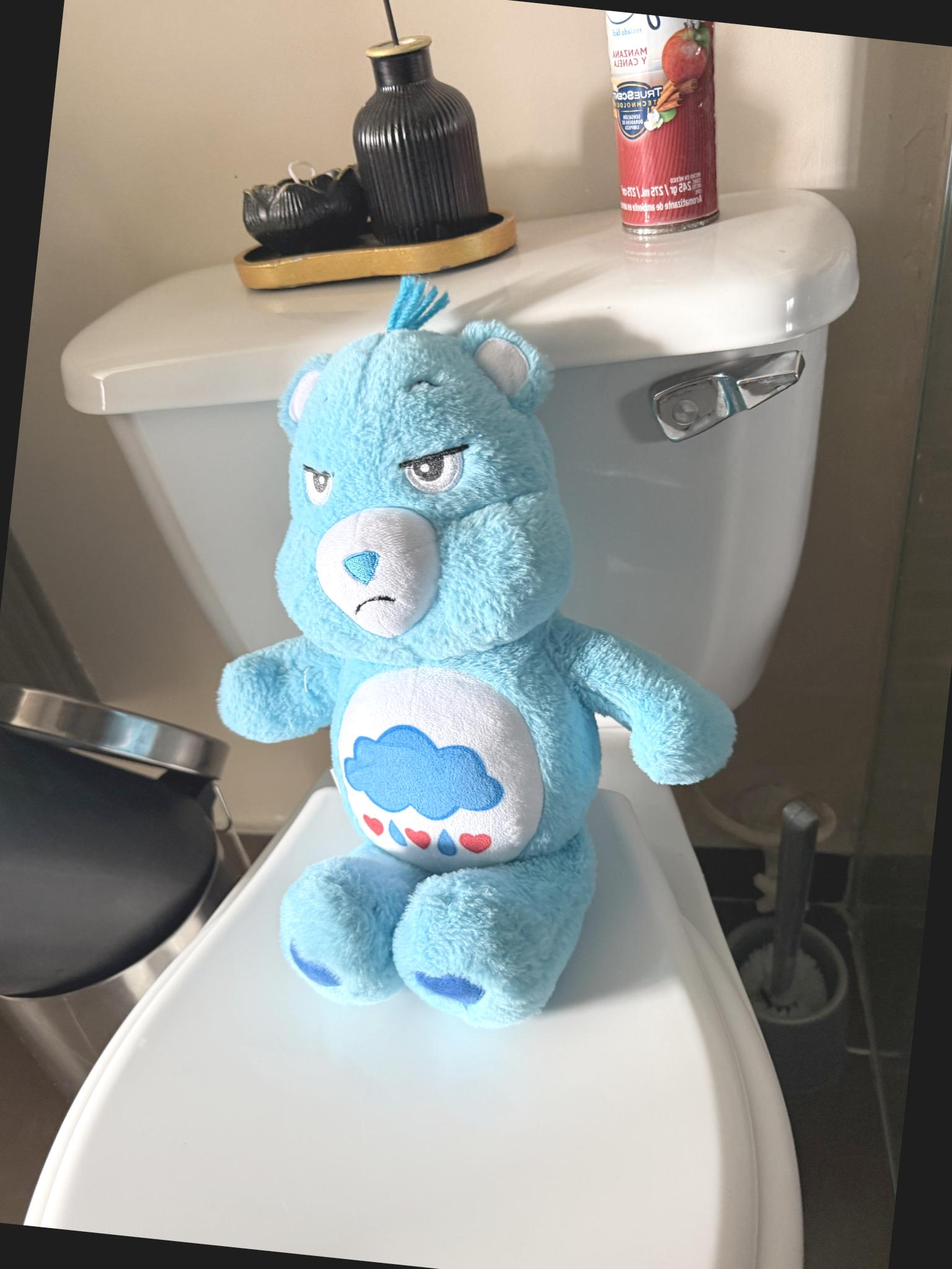peluche_Juan Jose: (197, 312, 621, 1036)
